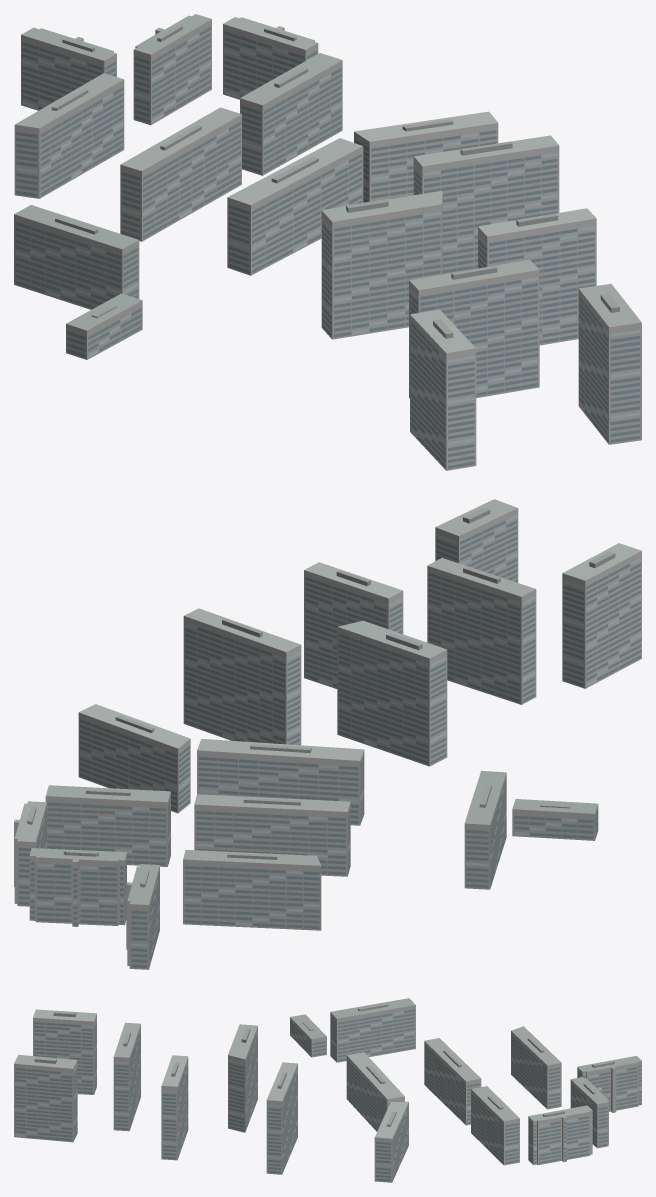
File: apt-a15875103.glb
3 renders of one model, top to bottom at view 1: azimuth 30°, elevation 25°; view 2: azimuth 150°, elevation 25°; view 3: azimuth 270°, elevation 25°, orthographic. The views are drawn at different scales.
Visible parts, largest first — view 1: apt-a15875103; view 2: apt-a15875103; view 3: apt-a15875103.
Part boxes in pixels (left/top/right/bottom): apt-a15875103: left=14, top=14, right=641, bottom=470; apt-a15875103: left=14, top=499, right=641, bottom=969; apt-a15875103: left=14, top=998, right=641, bottom=1182.
Size of the model in its own units: 267 by 63.4 by 472.
